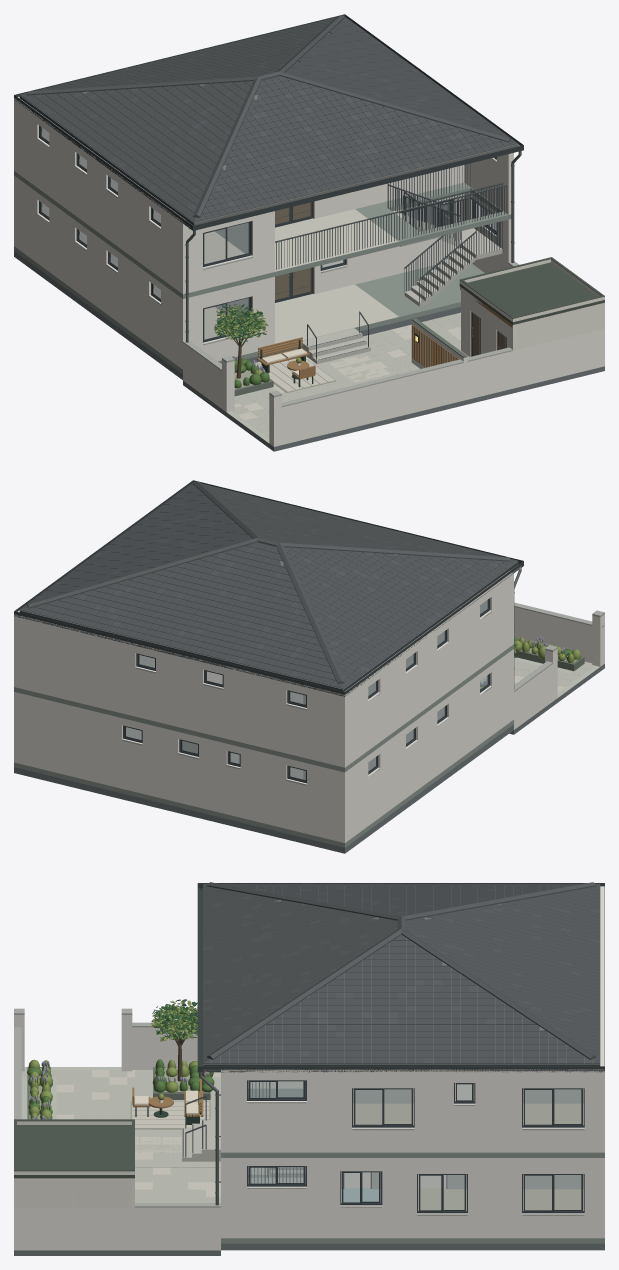
File: house.glb
The picture shows the model from 3 angles, top to bottom: view 1: azimuth 30°, elevation 25°; view 2: azimuth 150°, elevation 25°; view 3: azimuth 270°, elevation 25°; orthographic projection. The views are drawn at different scales.
Visible parts, largest first — view 1: RoofConcept/roof-assembly, F1/wall/yard-south, F2/wall/west-house, F1/wall/west-house, F2/floor/property-boundary, CourtyardDesign/roof, CourtyardDesign/paving, F2/room-floor/porch, F1/room-floor/porch, F1/floor/property-boundary, F2/wall/south-master, F1/wall/south-master (+29 smaller); view 2: RoofConcept/roof-assembly, F2/wall/north-house, F1/wall/north-house, F1/wall/west-house, F2/wall/west-house, F1/entrance/plinth, F1/floor/property-boundary, F2/floor/property-boundary, F1/wall/yard-south, F1/wall/yard-west, F1/facade/yard-coping/0, CourtyardDesign/paving (+3 smaller); view 3: RoofConcept/roof-assembly, F2/wall/east-house, F1/wall/east-house, F1/wall/yard-east, CourtyardDesign/paving, CourtyardDesign/roof, CourtyardDesign/plaster, CourtyardDesign/pavingLight, F1/entrance/plinth, F2/floor/property-boundary, F1/floor/property-boundary, CourtyardDesign/leafLight (+28 smaller).
Part boxes in pixels (x1,y1,x2,y2): RoofConcept/roof-assembly: (14, 14, 523, 230); F1/wall/yard-south: (271, 329, 604, 446); F2/wall/west-house: (14, 100, 187, 292); F1/wall/west-house: (14, 175, 185, 367); F2/floor/property-boundary: (14, 171, 511, 298); CourtyardDesign/roof: (459, 257, 604, 324); CourtyardDesign/paving: (232, 313, 468, 437); F2/room-floor/porch: (275, 209, 398, 271); F1/room-floor/porch: (275, 284, 398, 343); F1/floor/property-boundary: (14, 246, 484, 373); F2/wall/south-master: (180, 211, 272, 294); F1/wall/south-master: (180, 277, 272, 369); RoofConcept/roof-assembly: (14, 480, 523, 696); F2/wall/north-house: (19, 617, 347, 767); F1/wall/north-house: (19, 693, 347, 841); F1/wall/west-house: (339, 651, 510, 842); F2/wall/west-house: (339, 576, 513, 767); F1/entrance/plinth: (14, 724, 513, 853); F1/floor/property-boundary: (14, 720, 513, 847); F2/floor/property-boundary: (14, 644, 513, 772); F1/wall/yard-south: (480, 601, 604, 663); F1/wall/yard-west: (514, 664, 552, 729); F1/facade/yard-coping/0: (514, 602, 604, 691); CourtyardDesign/paving: (480, 659, 594, 686); RoofConcept/roof-assembly: (197, 882, 604, 1073); F2/wall/east-house: (221, 1072, 604, 1152); F1/wall/east-house: (221, 1158, 604, 1238); F1/wall/yard-east: (14, 1207, 220, 1250); CourtyardDesign/paving: (21, 1070, 220, 1202); CourtyardDesign/roof: (14, 1119, 134, 1178); CourtyardDesign/plaster: (14, 1100, 163, 1207); CourtyardDesign/pavingLight: (56, 1070, 220, 1196); F1/entrance/plinth: (221, 1243, 604, 1250); F2/floor/property-boundary: (221, 1088, 604, 1157); F1/floor/property-boundary: (221, 1174, 604, 1243); CourtyardDesign/leafLight: (28, 1000, 211, 1119).
Size of the model in its own units: 14.7 by 9.02 by 20.
